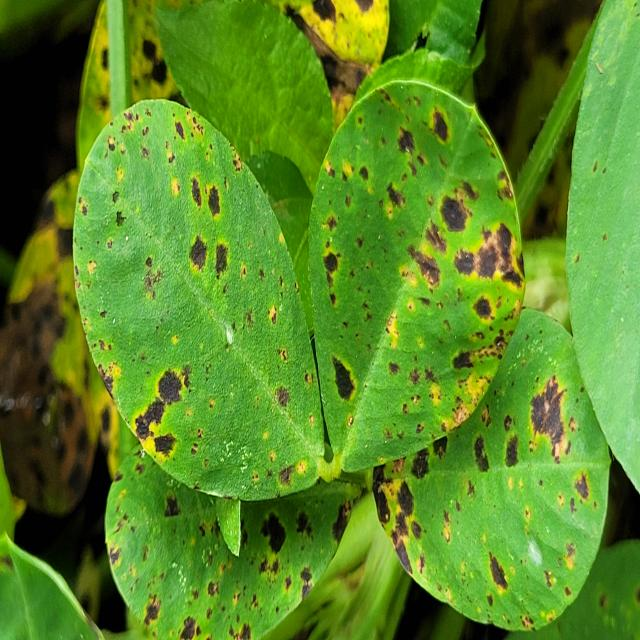Ground nut_tikka leaf spot: (72, 99, 329, 502), (306, 80, 526, 478), (373, 300, 611, 636)
